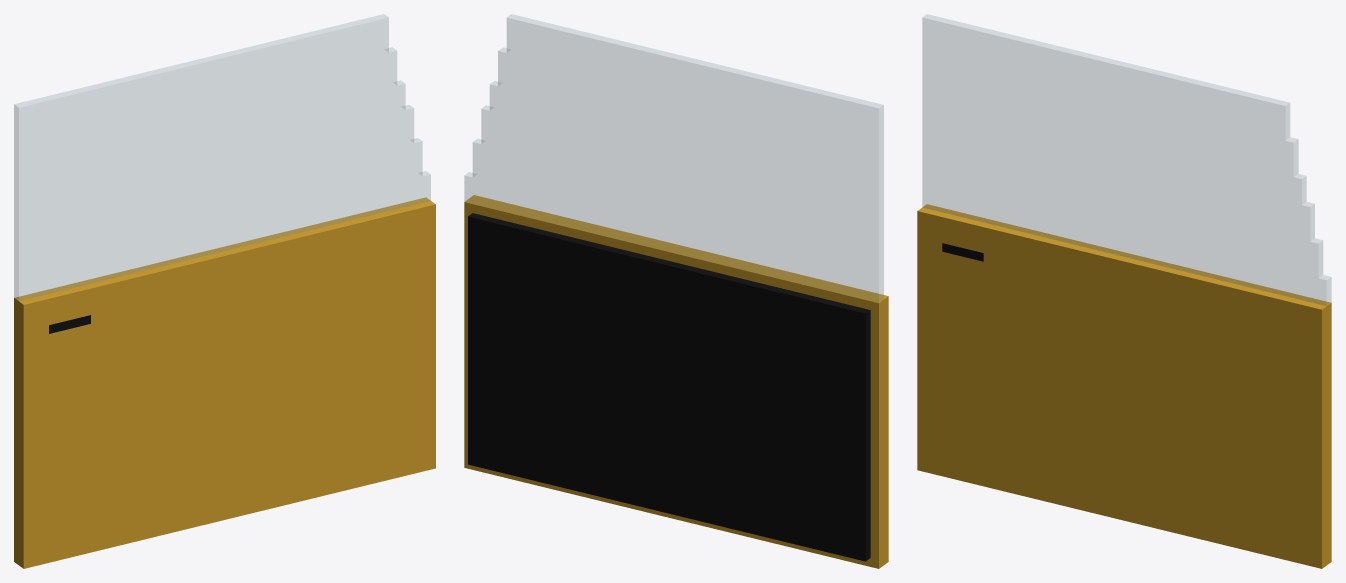
File: mobile_crane_door.glb
The picture shows the model from 3 angles, left to right: view 1: azimuth 30°, elevation 25°; view 2: azimuth 150°, elevation 25°; view 3: azimuth 330°, elevation 25°; orthographic projection. The views are drawn at different scales.
Parts seen in each view (by area): view 1: body:compound; view 2: body:compound; view 3: body:compound.
Part boxes in pixels (x1,y1,x2,y2): body:compound: (14,14,435,568); body:compound: (464,14,888,568); body:compound: (917,14,1331,568).
Size of the model in its own units: 1.53 by 1.62 by 0.0938.
